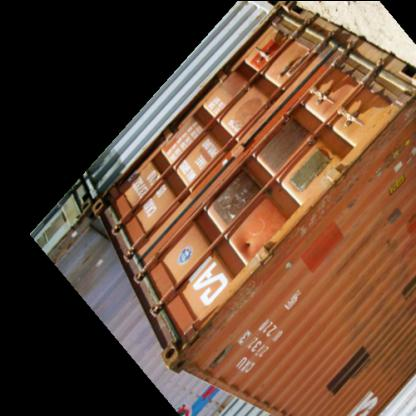Damage: (178, 246, 276, 360), (330, 127, 404, 206), (272, 181, 332, 257), (376, 197, 402, 251)
